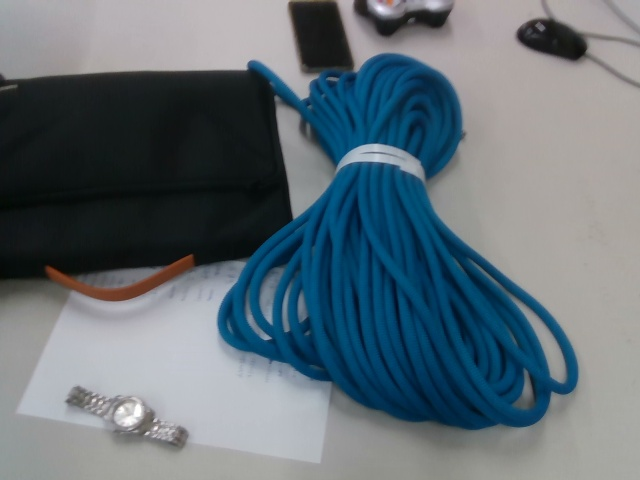rope: (212, 50, 584, 432)
